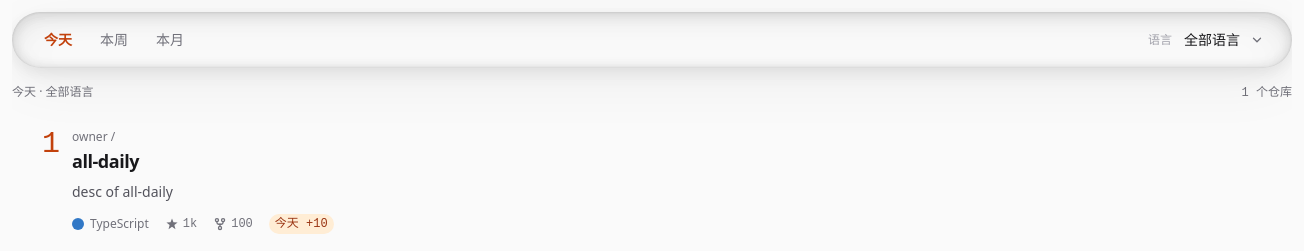
it: RepoBrowser › updates the summary line with the selected language label and count after a language switch
Select "Python" in the dropdown at {"x": 1224, "y": 40}, box [1176,24,1272,56]
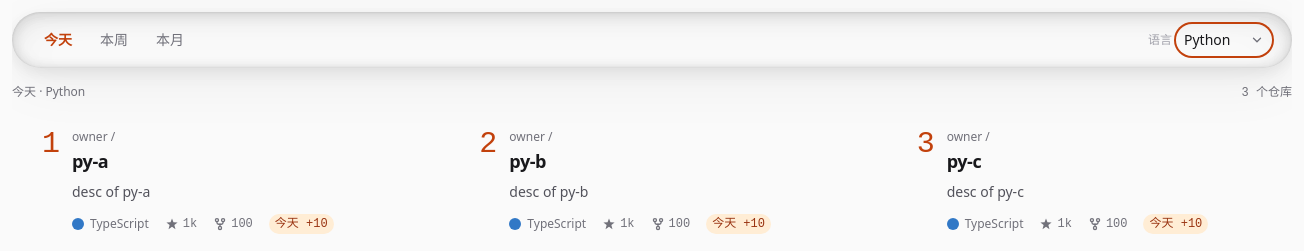
Check: the text "3 个仓库" is shown, box [1242,85,1292,101]
